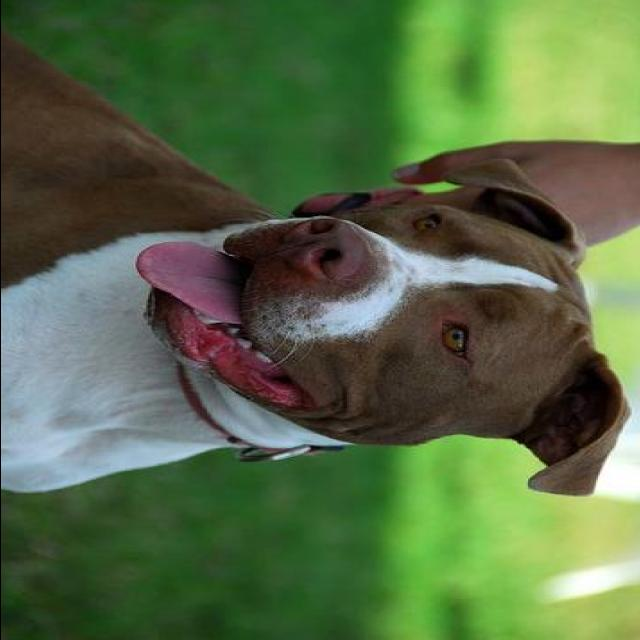staffordshire_bullterrier: (2, 26, 630, 497)
